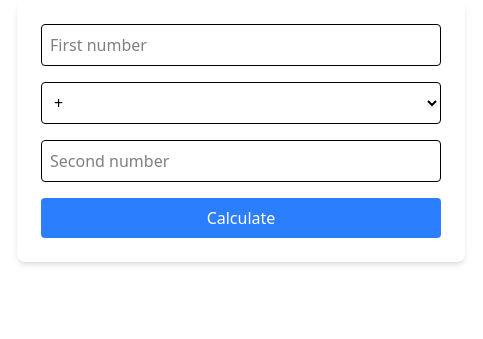
Scenario: Calculator Component › handles division by zero error
The width and height of the screenshot is (483, 339).
Type "5" into the number field with placeholder "First number" at [241, 45], box [41, 24, 441, 66]
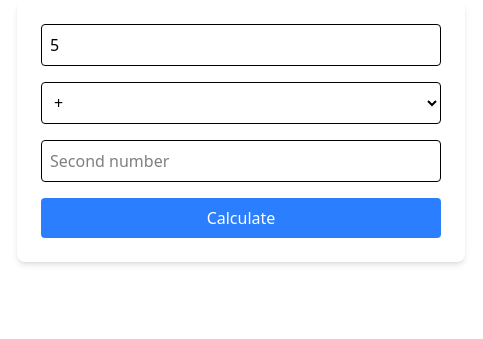
Type "0" into the number field with placeholder "Second number" at [241, 161], box [41, 140, 441, 182]
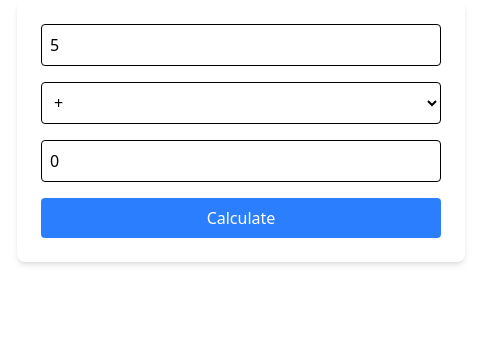
Select "÷" in the dropdown at [241, 103], box [41, 82, 441, 124]
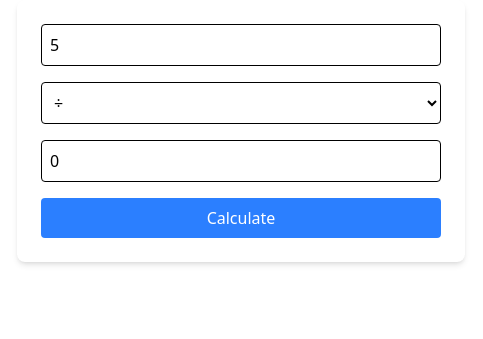
Click the button at [241, 218], box [41, 198, 441, 238]
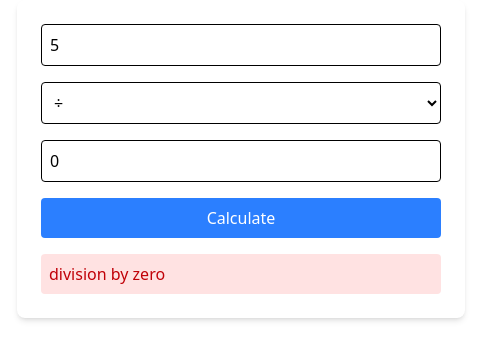
expect the text "division by zero" is shown: met, box [41, 254, 441, 294]
